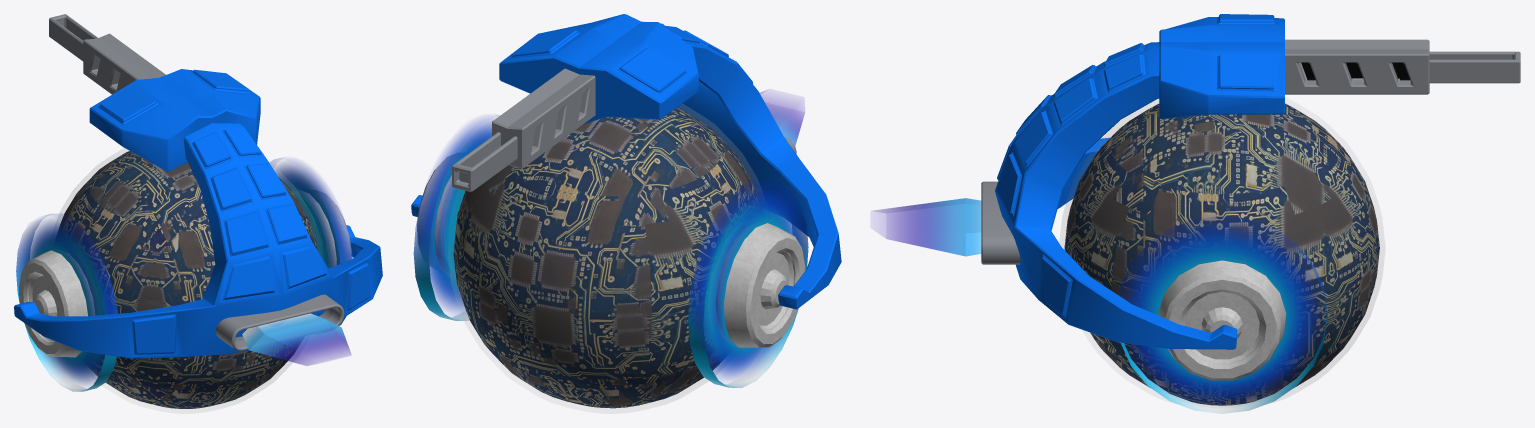
Rendered from scorp-tank.glb.
3 views of the same model, side by side, from view 1: azimuth 30°, elevation 25°; view 2: azimuth 150°, elevation 25°; view 3: azimuth 270°, elevation 25° (orthographic). The views are drawn at different scales.
Parts seen in each view (by area): view 1: Body, Ball.001, magnets, Cylinder, thruster, Ball; view 2: Ball.001, Body, magnets, Cylinder, Ball, thruster; view 3: Ball.001, Body, magnets, Cylinder, thruster, Ball.
Part boxes in pixels (bbox=[...]): Body: bbox=[14, 14, 382, 358]; Ball.001: bbox=[57, 151, 317, 408]; magnets: bbox=[16, 158, 353, 391]; Cylinder: bbox=[18, 190, 351, 357]; thruster: bbox=[242, 313, 351, 365]; Ball: bbox=[57, 148, 321, 413]; Ball.001: bbox=[453, 107, 759, 408]; Body: bbox=[411, 14, 841, 309]; magnets: bbox=[413, 115, 808, 387]; Cylinder: bbox=[417, 153, 805, 347]; Ball: bbox=[448, 104, 760, 413]; thruster: bbox=[760, 90, 804, 145]; Ball.001: bbox=[1064, 103, 1379, 405]; Body: bbox=[981, 14, 1520, 349]; magnets: bbox=[1119, 216, 1327, 413]; Cylinder: bbox=[1158, 260, 1286, 380]; thruster: bbox=[872, 198, 981, 256]; Ball: bbox=[1060, 98, 1384, 403].
Bounding box in the file's own units: 2.72 × 2.42 × 3.98.
8 materials, 4 textured.
